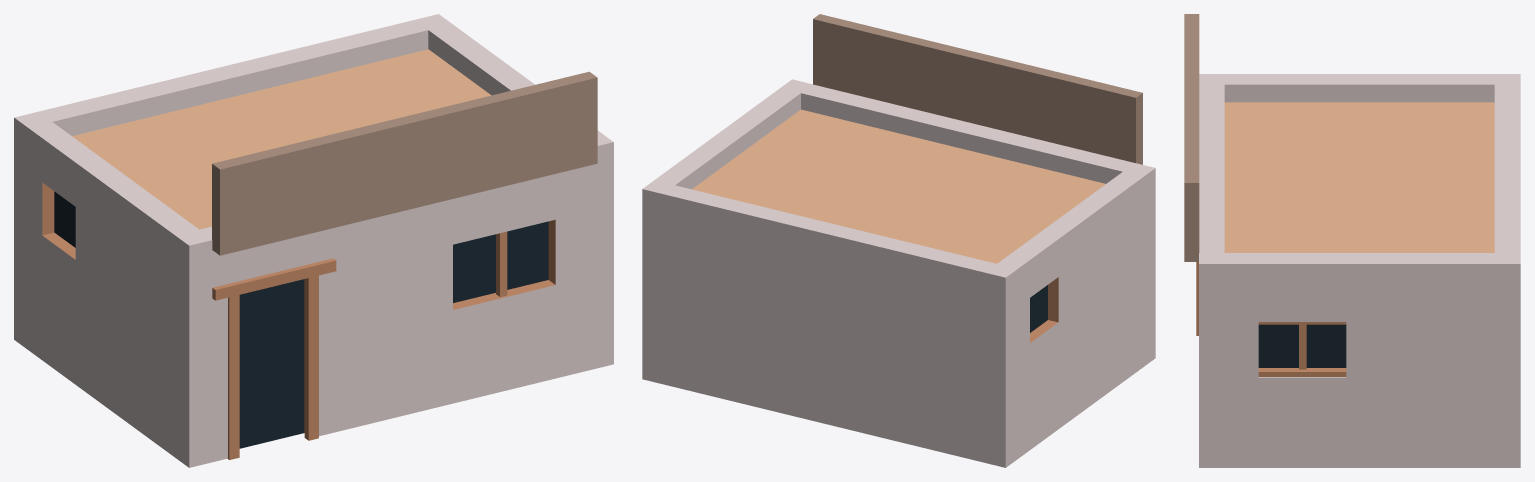
File: Market01.fbx
3 renders of one model, left to right at view 1: azimuth 30°, elevation 25°; view 2: azimuth 150°, elevation 25°; view 3: azimuth 270°, elevation 25°, orthographic. The views are drawn at different scales.
Visible parts, largest first — view 1: Market01; view 2: Market01; view 3: Market01.
Part boxes in pixels (bbox=[...]): Market01: bbox=[14, 14, 613, 467]; Market01: bbox=[642, 14, 1155, 467]; Market01: bbox=[1184, 14, 1520, 467].
Bounding box in the file's own units: 134 × 99.91 × 90.11.
